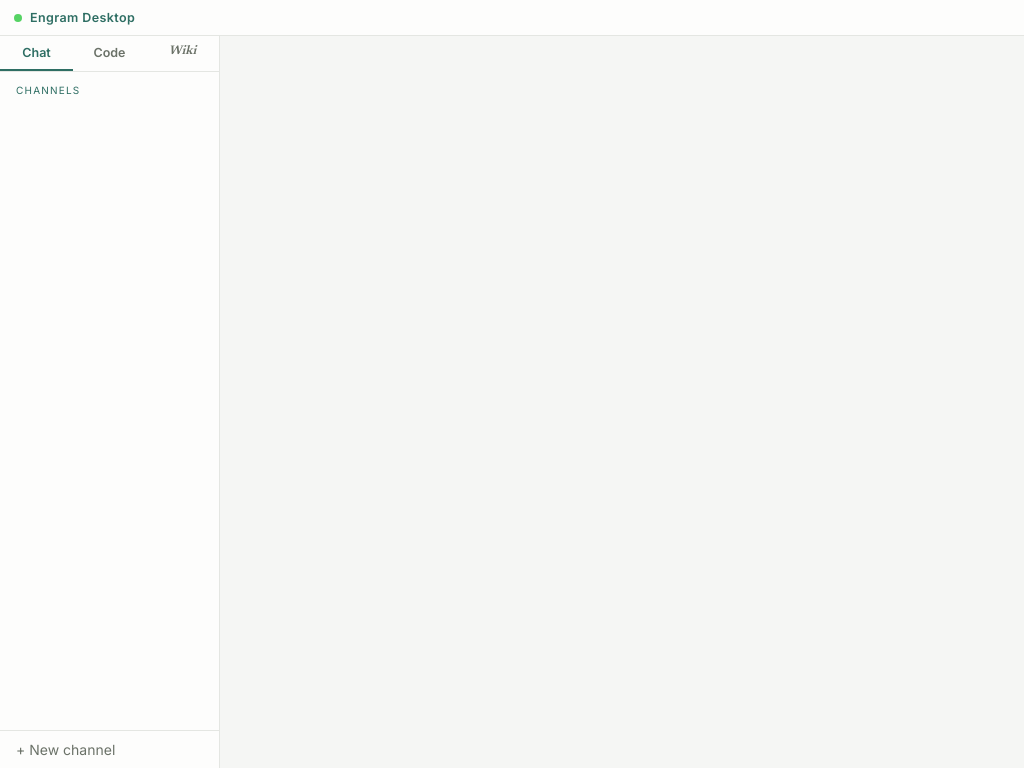
Test: 열기 · 퍼시스트 · 이관 › 터미널 아이콘을 누르면 독이 열리고 ptyStart가 `채널#탭` 키로 불린다
The width and height of the screenshot is (1024, 768).
Click the text "Code" at (110, 52), box x1=94 y1=45 x2=126 y2=60
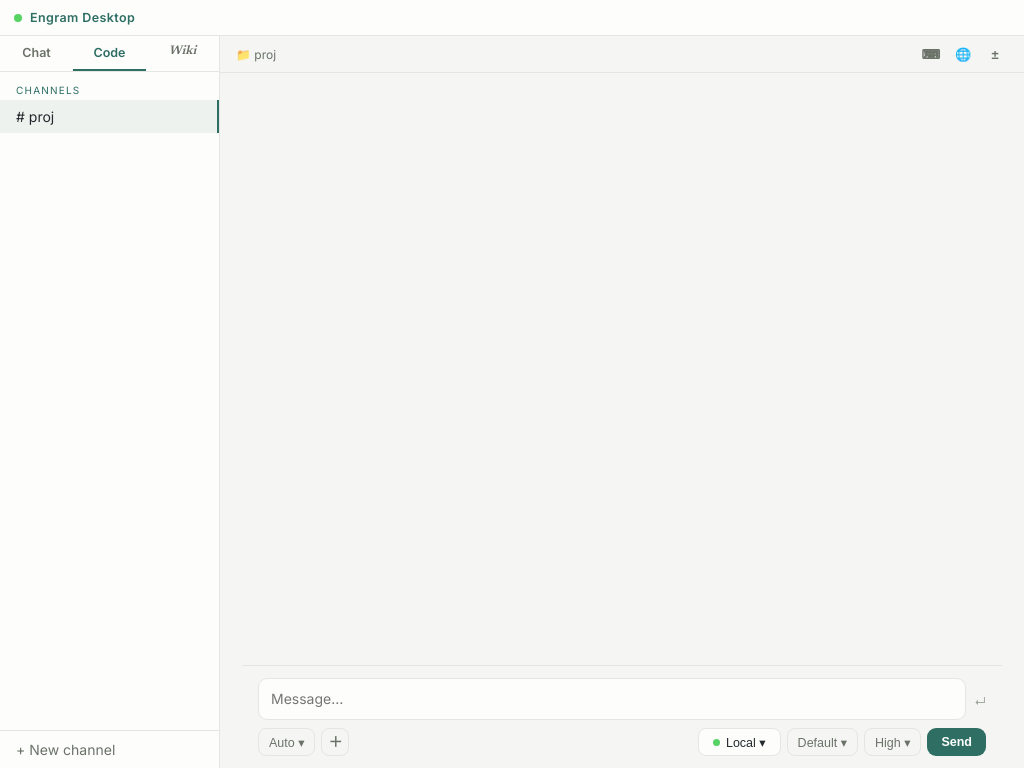
Expected: the element titled "C:/repo/proj" is shown, x1=220 y1=36 x2=1023 y2=73
Click the button with class "codeIconBtn" showing "⌨" at (931, 54), box x1=918 y1=42 x2=944 y2=66
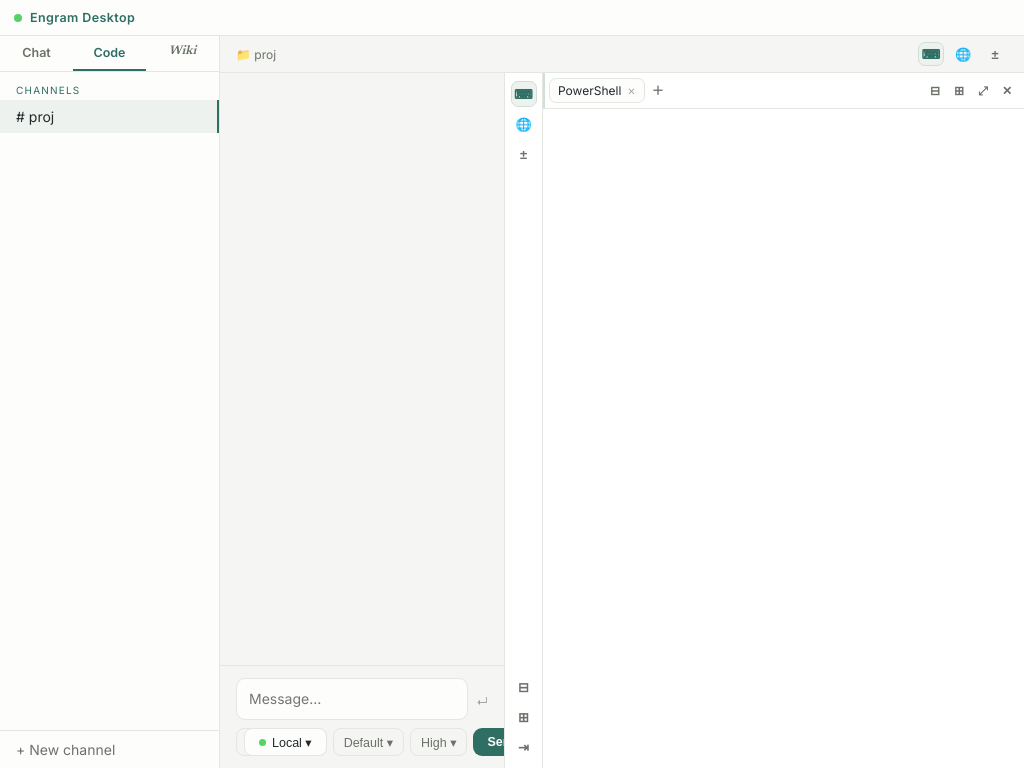
Expected: the element with class "dockPanel" is shown, x1=504 y1=73 x2=1023 y2=767
